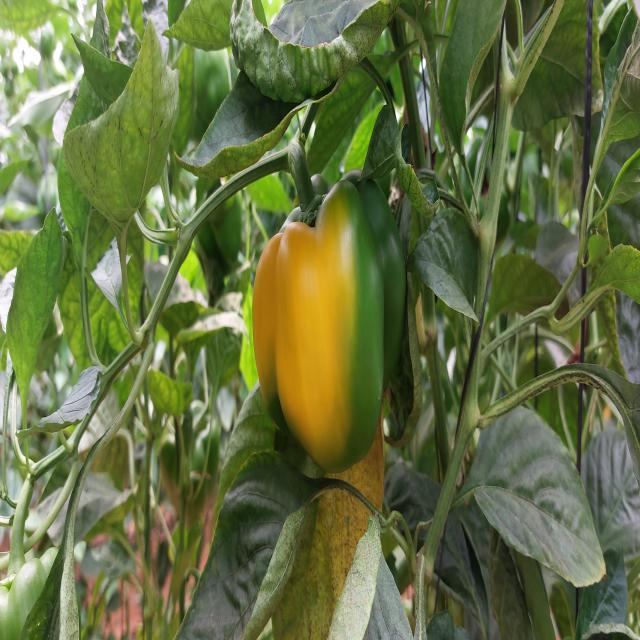GreenishYellow--Can-be-Harvested: (243, 180, 413, 478)
